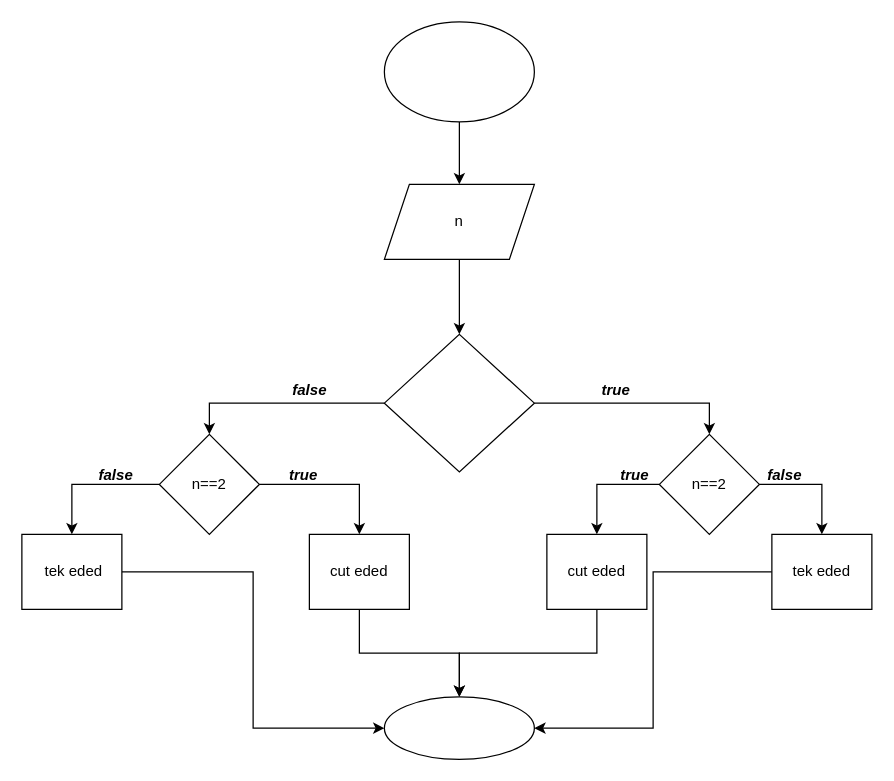
Some shapes in this 894 by 781 pixel diagram are drawn without their labels. The shapes that lost their labels are listed below. From the top down, each one's centre as x and y in pixels, then its label:
pixel 458 71: start
pixel 458 402: n>100
pixel 458 727: finish
